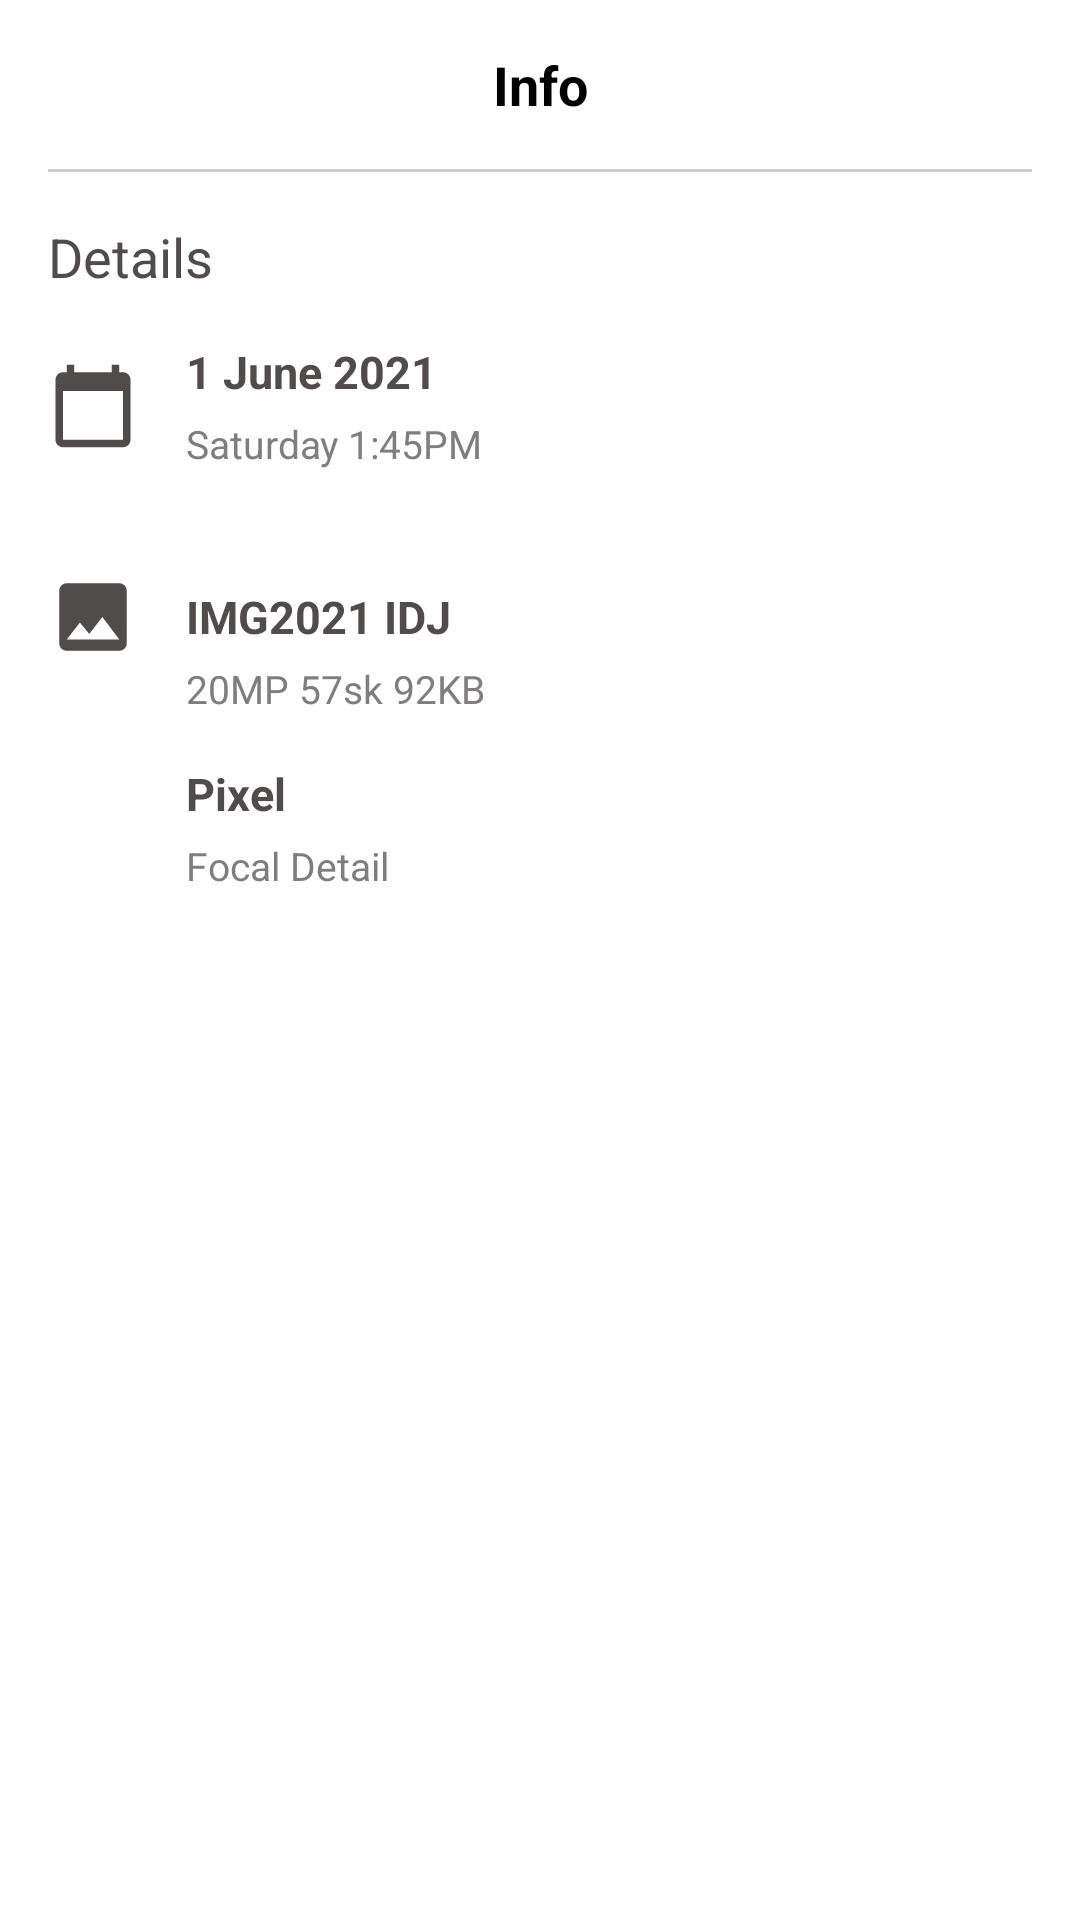

Screen size 1080 x 1920. Icon name, then its center in pixels as (x,y):
calendar today: (93,406)
